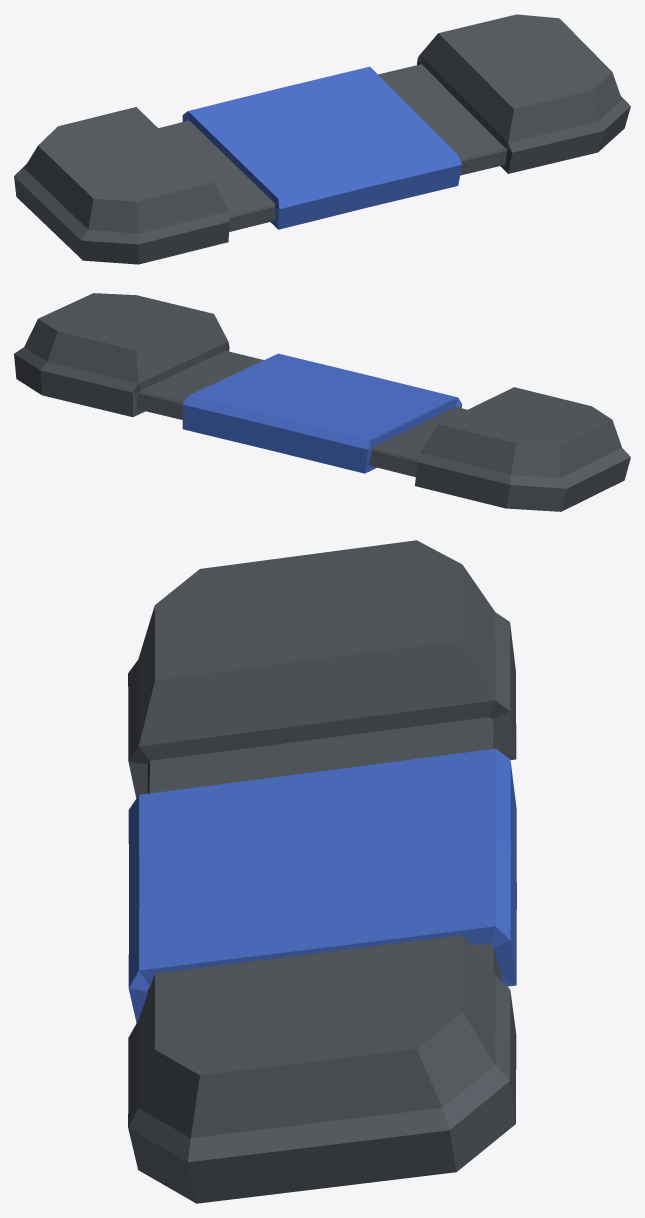
File: Mothership_01_Detail_2_Blue.fbx
The picture shows the model from 3 angles, top to bottom: view 1: azimuth 30°, elevation 25°; view 2: azimuth 150°, elevation 25°; view 3: azimuth 270°, elevation 25°; orthographic projection. The views are drawn at different scales.
Visible parts, largest first — view 1: Mothership_01_Detail_2_Blue; view 2: Mothership_01_Detail_2_Blue; view 3: Mothership_01_Detail_2_Blue.
Boxes of the visible parts, left/top/right/bottom form: Mothership_01_Detail_2_Blue: left=14, top=14, right=630, bottom=264; Mothership_01_Detail_2_Blue: left=14, top=293, right=630, bottom=511; Mothership_01_Detail_2_Blue: left=128, top=540, right=516, bottom=1203.
Size of the model in its own units: 1299 by 178 by 395.
Materials: 1 (1 with a texture image).
